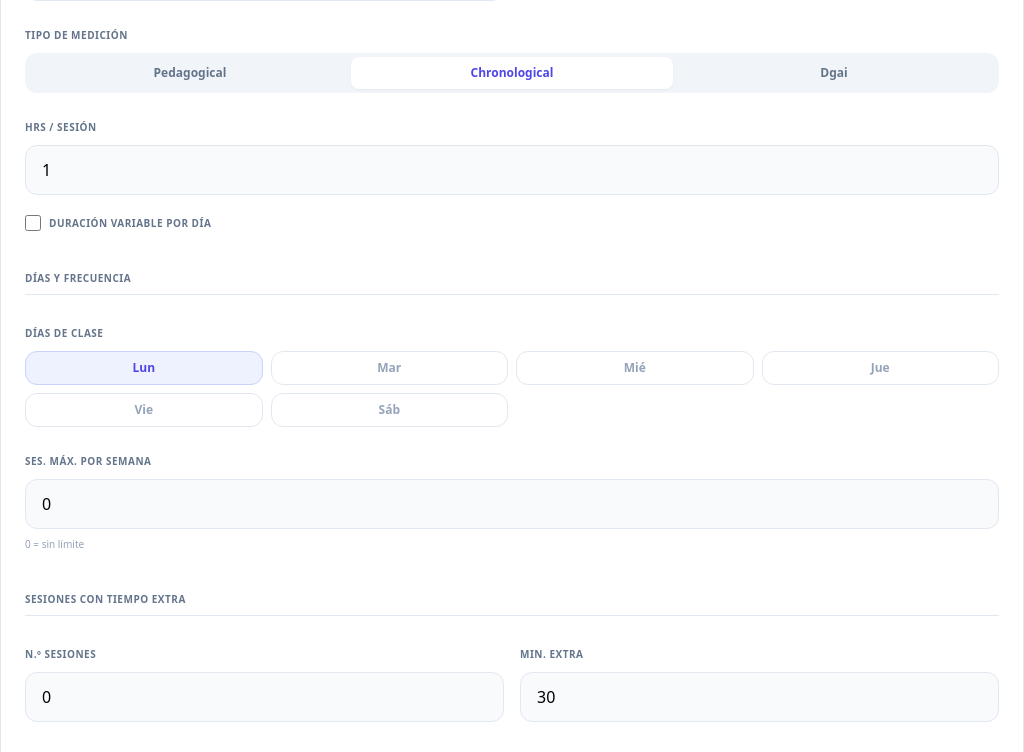
CourseForm — inline validation (CORT-01) › classDays: error appears after clicking last day button to deselect (D-01)
The image size is (1024, 752).
(page scrolled)
Click the button "Lun". click: [144, 368]
box: [25, 351, 262, 385]
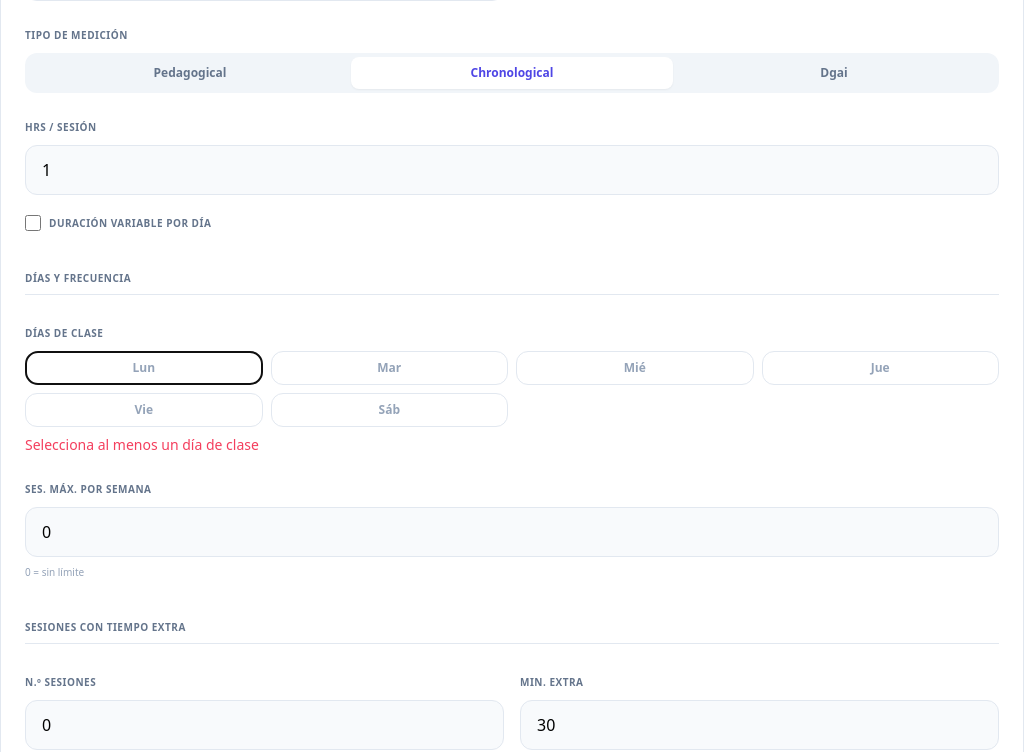
Check: the text "Selecciona al menos un día de clase" is shown, box [25, 435, 259, 454]
